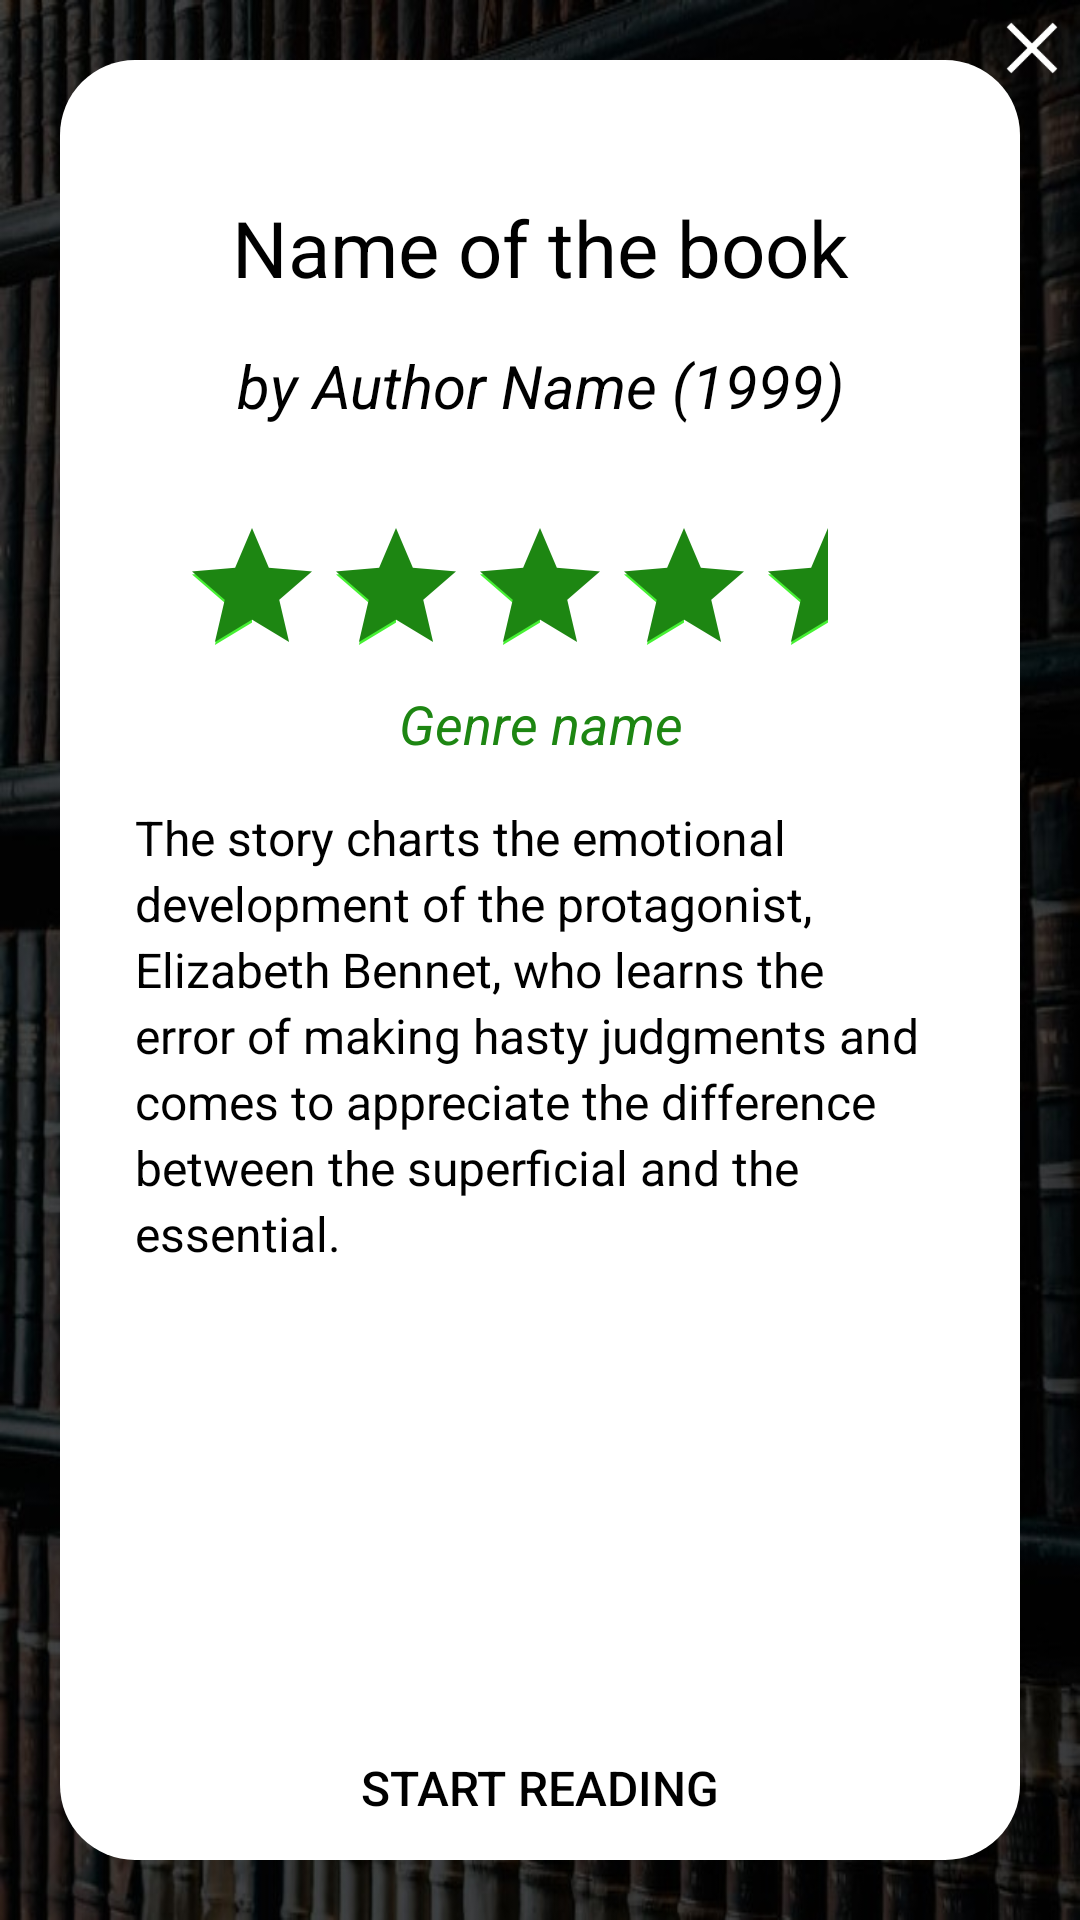

Screen size 1080w x 1920h. Icon name, then its center in pixels as point (x, y):
exit: point (1021, 58)
